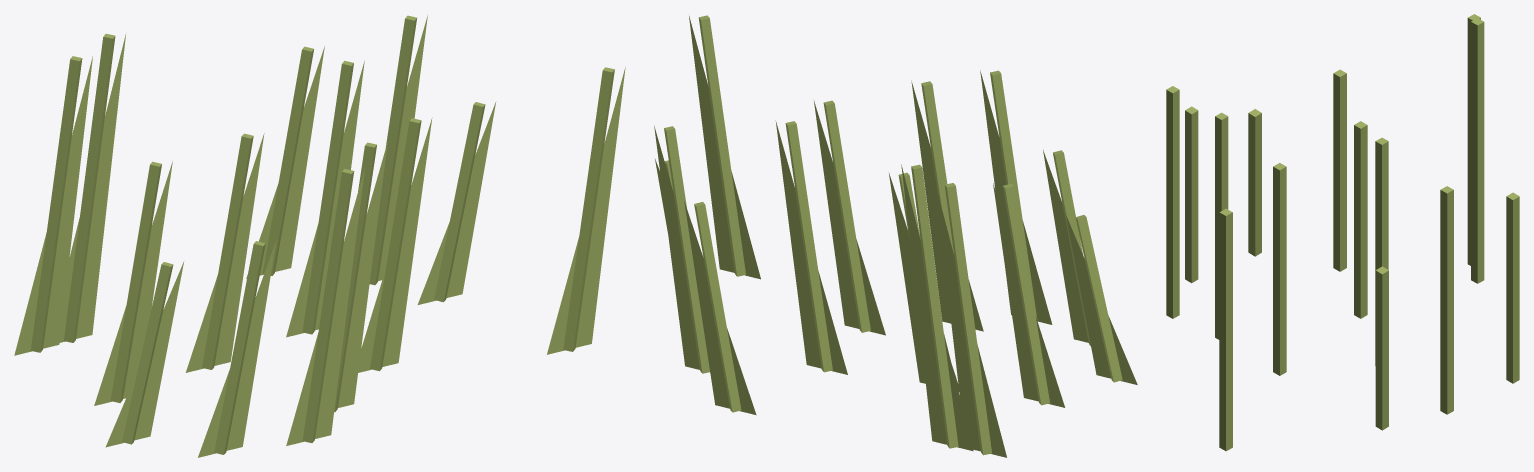
Rendered from foliage_grass.glb.
3 renders of one model, left to right at view 1: azimuth 30°, elevation 25°; view 2: azimuth 150°, elevation 25°; view 3: azimuth 270°, elevation 25°, orthographic. The views are drawn at different scales.
Visible parts, largest first — view 1: foliage_grass; view 2: foliage_grass; view 3: foliage_grass.
Boxes of the visible parts, x1,y1,x2,y2 form: foliage_grass: (14, 15, 625, 457); foliage_grass: (654, 15, 1137, 457); foliage_grass: (1166, 14, 1519, 451).
Bounding box in the file's own units: 0.8952 × 0.5034 × 0.5785.
